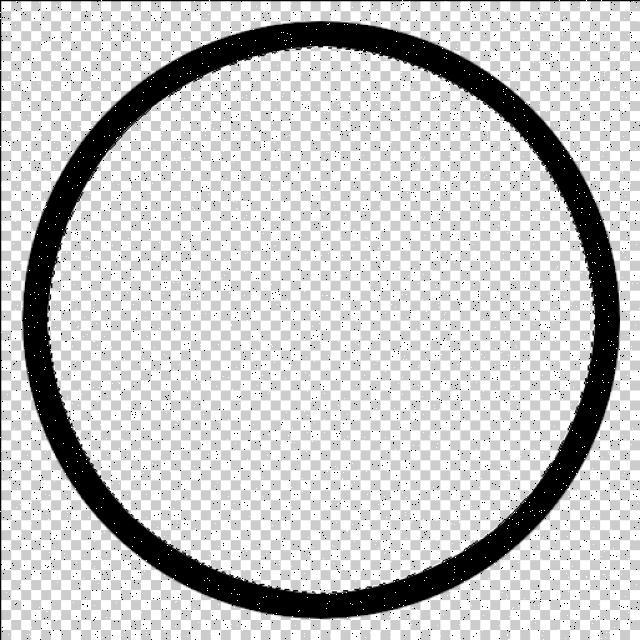Circle: (24, 22, 619, 617)
